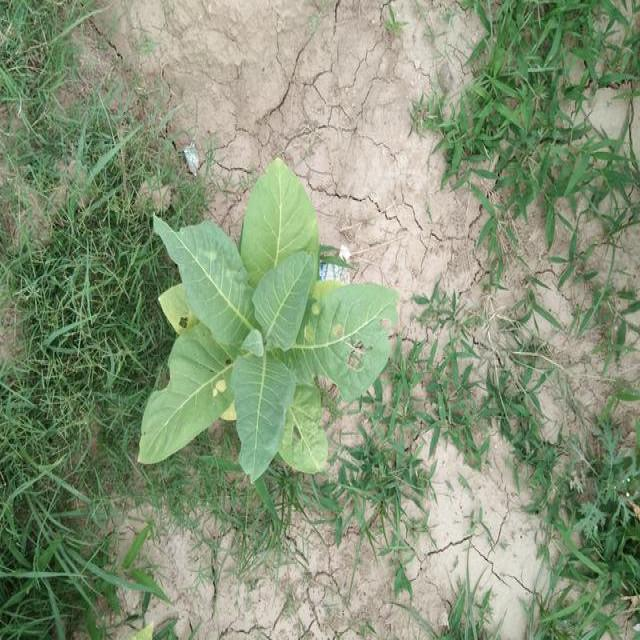crop: (133, 138, 404, 491)
